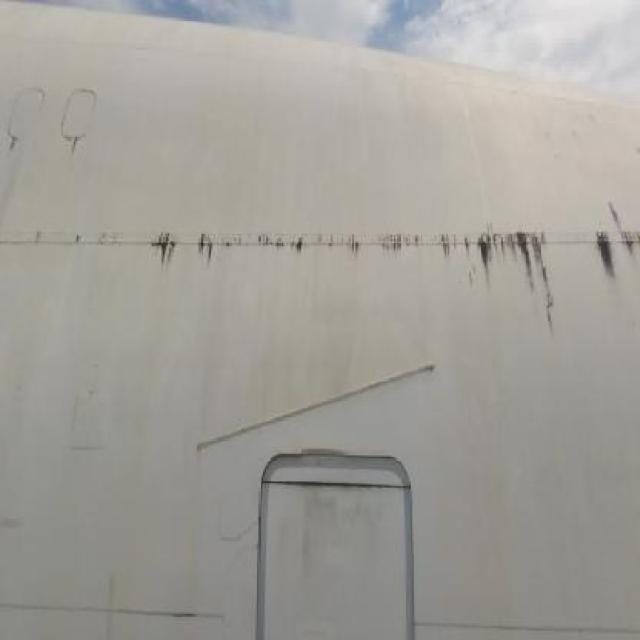Rust: (137, 206, 640, 339), (70, 138, 82, 162), (10, 137, 18, 158)
Scartch: (300, 482, 406, 583), (1, 516, 36, 552)
